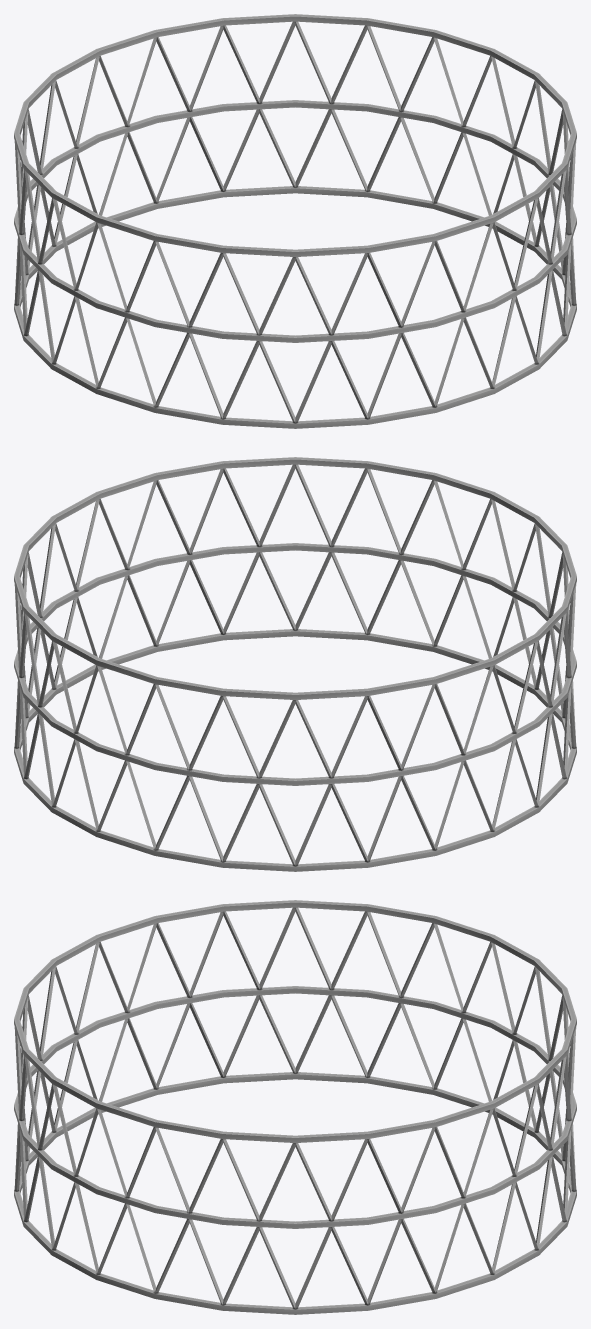
Rendered from ALV_2_Engine_1_Fairing.obj.
The picture shows the model from 3 angles, top to bottom: view 1: azimuth 30°, elevation 25°; view 2: azimuth 150°, elevation 25°; view 3: azimuth 270°, elevation 25°; orthographic projection.
Parts seen in each view (by area): view 1: ALV_2_Engine_1_Fairing; view 2: ALV_2_Engine_1_Fairing; view 3: ALV_2_Engine_1_Fairing.
Part boxes in pixels (box(x1,y1,x2,y2)): ALV_2_Engine_1_Fairing: box(14, 14, 576, 428); ALV_2_Engine_1_Fairing: box(14, 457, 576, 871); ALV_2_Engine_1_Fairing: box(14, 900, 576, 1314).
Bounding box in the file's own units: 2.5 × 0.8665 × 2.5.
